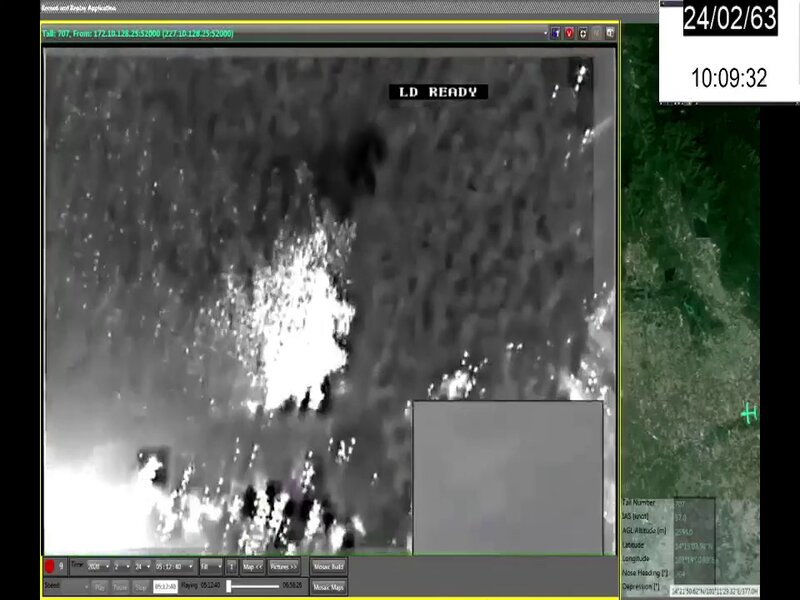Fire: (226, 221, 356, 420)
